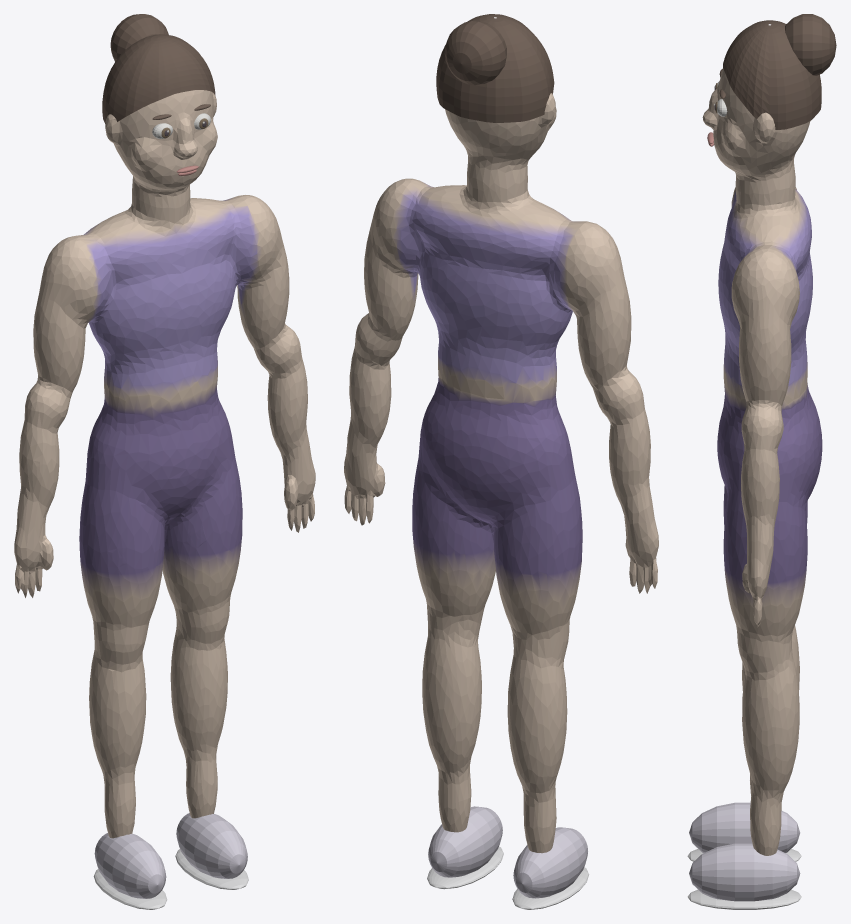
File: bloom_human.glb
3 renders of one model, left to right at view 1: azimuth 30°, elevation 25°; view 2: azimuth 150°, elevation 25°; view 3: azimuth 270°, elevation 25°, orthographic. The views are drawn at different scales.
Parts seen in each view (by area): view 1: Human_0, Human_17, Human_6, Human_13, Human_18, Human_14, Human_7; view 2: Human_0, Human_17, Human_13, Human_6, Human_18, Human_14, Human_7; view 3: Human_0, Human_17, Human_13, Human_6, Human_18, Human_14.
Part boxes in pixels (x1,y1,x2,y2): Human_0: (14, 90, 315, 838); Human_17: (102, 34, 215, 123); Human_6: (94, 833, 166, 898); Human_13: (176, 813, 247, 878); Human_18: (110, 14, 168, 61); Human_14: (175, 849, 248, 889); Human_7: (93, 869, 167, 909); Human_0: (344, 93, 658, 853); Human_17: (436, 14, 554, 122); Human_13: (428, 806, 502, 877); Human_6: (513, 827, 587, 898); Human_18: (444, 21, 506, 85); Human_14: (427, 846, 503, 889); Human_7: (512, 867, 589, 909); Human_0: (702, 68, 822, 855); Human_17: (723, 20, 821, 129); Human_13: (689, 843, 800, 901); Human_6: (689, 802, 800, 852); Human_18: (785, 14, 836, 75); Human_14: (687, 889, 801, 909).
Bounding box in the file's own units: 67.58 × 182 × 28.4.
